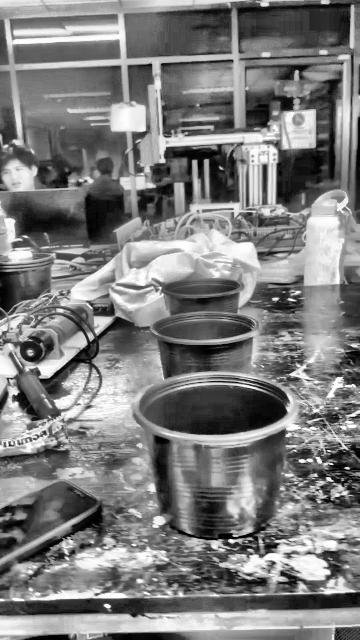pot: (133, 375, 291, 539), (150, 311, 259, 378), (163, 279, 244, 315), (0, 258, 56, 310)
